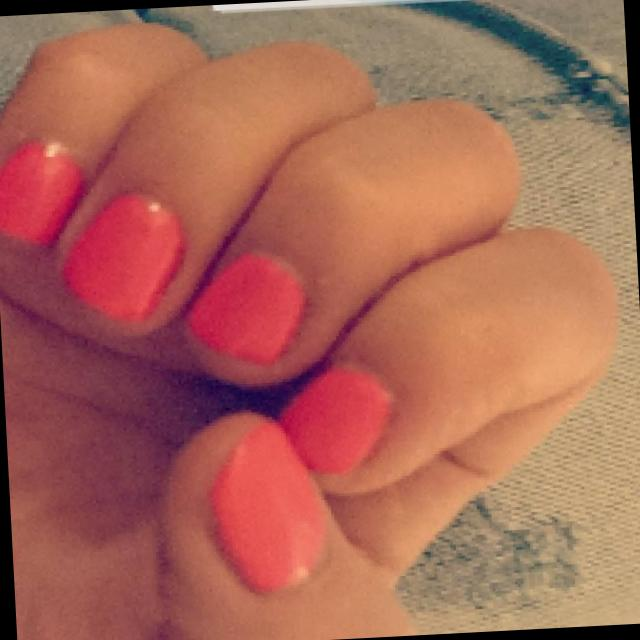Nail: (211, 423, 324, 593), (63, 194, 184, 321), (188, 254, 304, 364), (280, 370, 389, 474), (0, 141, 82, 244)
